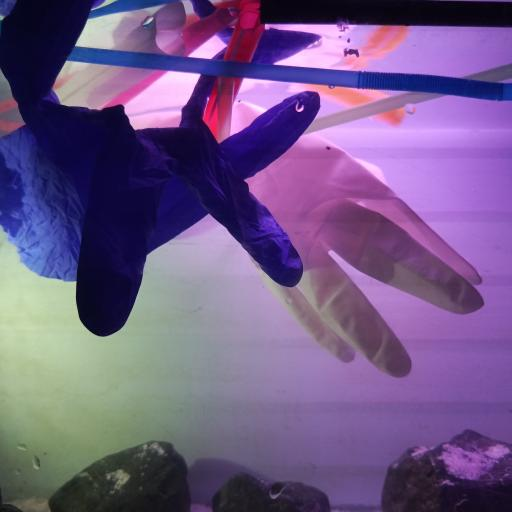glove: (0, 0, 321, 337), (128, 98, 486, 378)
plastic_straw: (66, 46, 512, 104), (301, 62, 512, 136), (95, 6, 235, 109), (202, 7, 265, 141), (257, 0, 512, 28), (301, 82, 405, 128), (0, 71, 75, 115), (217, 74, 235, 144)
